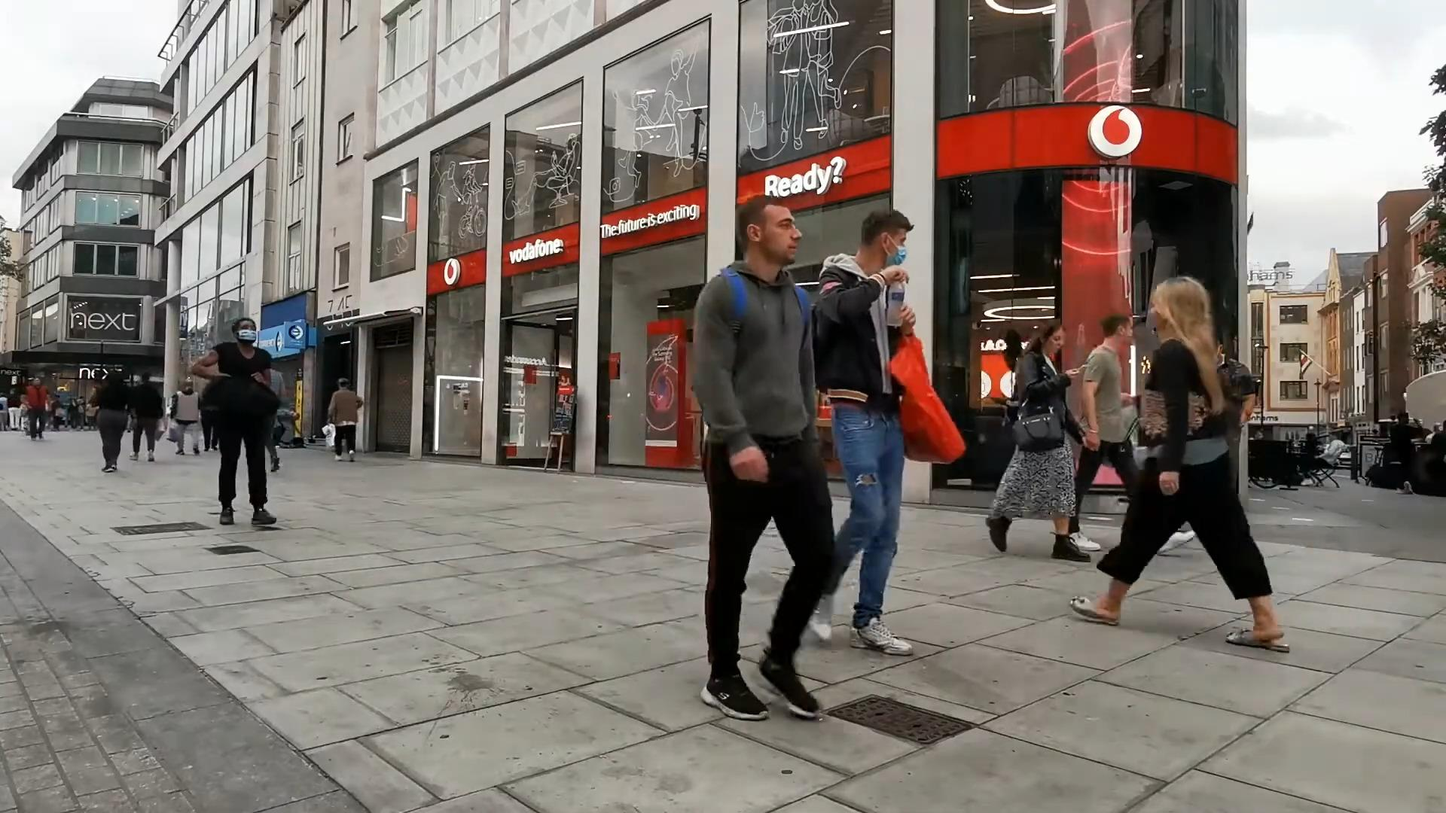no-helmet: (735, 194, 803, 267), (1146, 274, 1210, 335), (860, 208, 913, 270), (1100, 314, 1134, 347), (1034, 320, 1067, 354), (231, 317, 257, 345)
